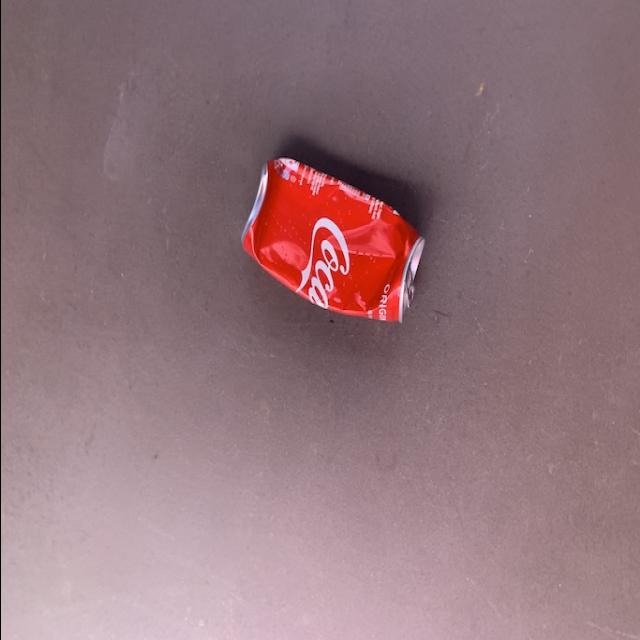Aluminum Can: (236, 148, 434, 334)
